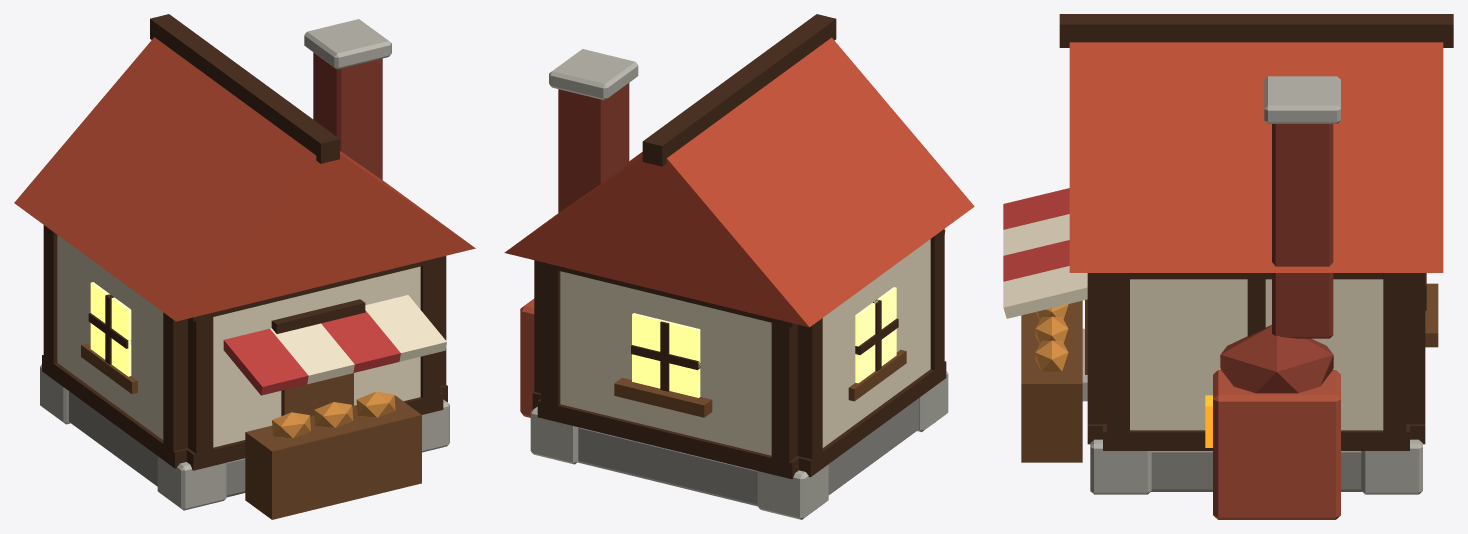
Rendered from bakery.glb.
3 views of the same model, side by side, from view 1: azimuth 30°, elevation 25°; view 2: azimuth 150°, elevation 25°; view 3: azimuth 270°, elevation 25° (orthographic). The views are drawn at different scales.
Parts seen in each view (by area): view 1: roof_body, counter, wall_plaster, wall_plaster.002, roof_ridge, chimney_shaft, foundation_core, post, awning_0, post.004, awning_3, chimney_cap (+18 smaller); view 2: roof_body, wall_plaster.001, wall_plaster.002, foundation_core, chimney_shaft, roof_ridge, beam_bot.001, post.003, win_pane, post.005, chimney_cap, corner_brick.001 (+13 smaller); view 3: roof_body, wall_plaster.003, oven_base, chimney_shaft, roof_ridge, counter, oven_dome, post.006, post.007, chimney_cap, beam_bot.003, foundation_core (+13 smaller).
Boxes of the visible parts, x1,y1,x2,y2 form: roof_body: (14,37,475,321); counter: (245,395,421,519); wall_plaster: (213,266,420,447); wall_plaster.002: (57,235,163,439); roof_ridge: (150,14,339,163); chimney_shaft: (313,52,382,179); foundation_core: (68,391,245,497); post: (188,313,213,465); awning_0: (223,328,308,395); post.004: (163,312,187,466); awning_3: (365,295,446,361); chimney_cap: (304,19,391,69); roof_body: (504,37,974,327); wall_plaster.001: (560,271,771,455); wall_plaster.002: (822,239,930,447); foundation_core: (578,398,918,506); chimney_shaft: (558,83,629,212); roof_ridge: (642,14,836,166); beam_bot.001: (537,399,800,479); post.003: (771,318,797,477); win_pane: (632,313,700,397); post.005: (797,318,822,475); chimney_cap: (549,49,638,100); corner_brick.001: (757,464,828,519); roof_body: (1069,42,1443,272); wall_plaster.003: (1130,279,1383,430); oven_base: (1213,370,1340,519); chimney_shaft: (1272,124,1333,338); roof_ridge: (1059,14,1453,47); counter: (1021,300,1082,462); oven_dome: (1220,325,1333,393); post.006: (1383,273,1406,450); post.007: (1107,273,1129,450); chimney_cap: (1264,76,1340,123); beam_bot.003: (1103,424,1409,450); foundation_core: (1151,451,1361,491).
Size of the model in its own units: 1.72 by 1.73 by 1.76.
